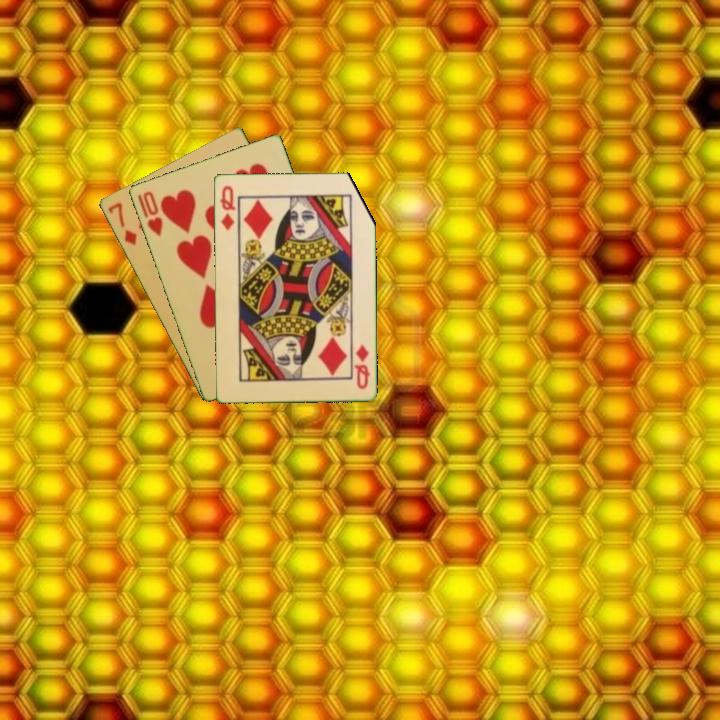10h: (134, 187, 165, 239)
7d: (104, 199, 139, 248)
Qd: (216, 182, 238, 233), (351, 340, 372, 391)
